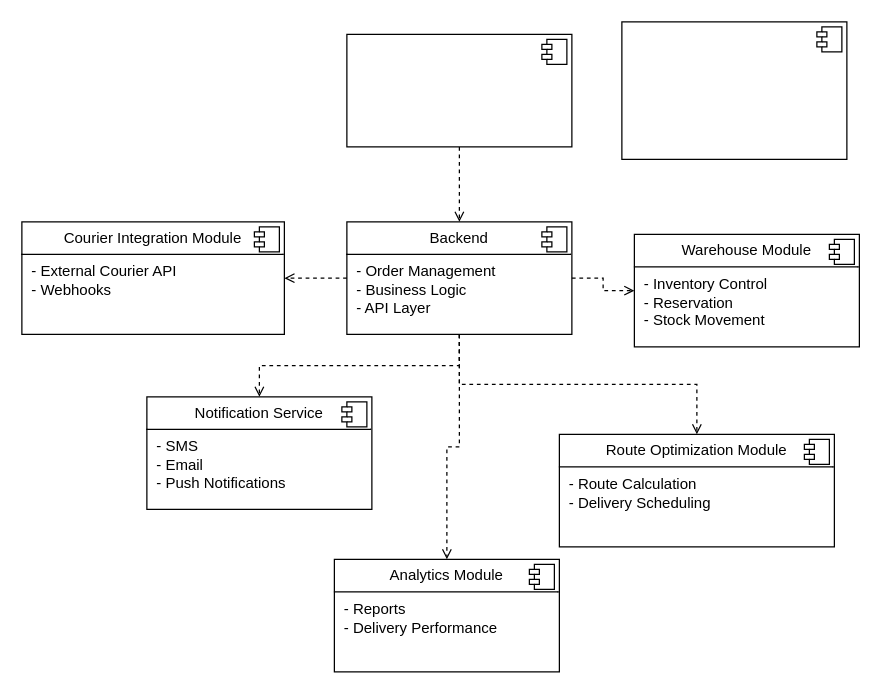
Image size: 881x694. Some labels were removed from this diagram. Here are the shapes that lost their labels. From the top down, the box of each, then its label:
(346, 33, 572, 147): Frontend - Web App (Clients) - Mobile App (Couriers)
(621, 21, 847, 159): Database - Orders - Warehouses - Clients - Couriers - Routes
